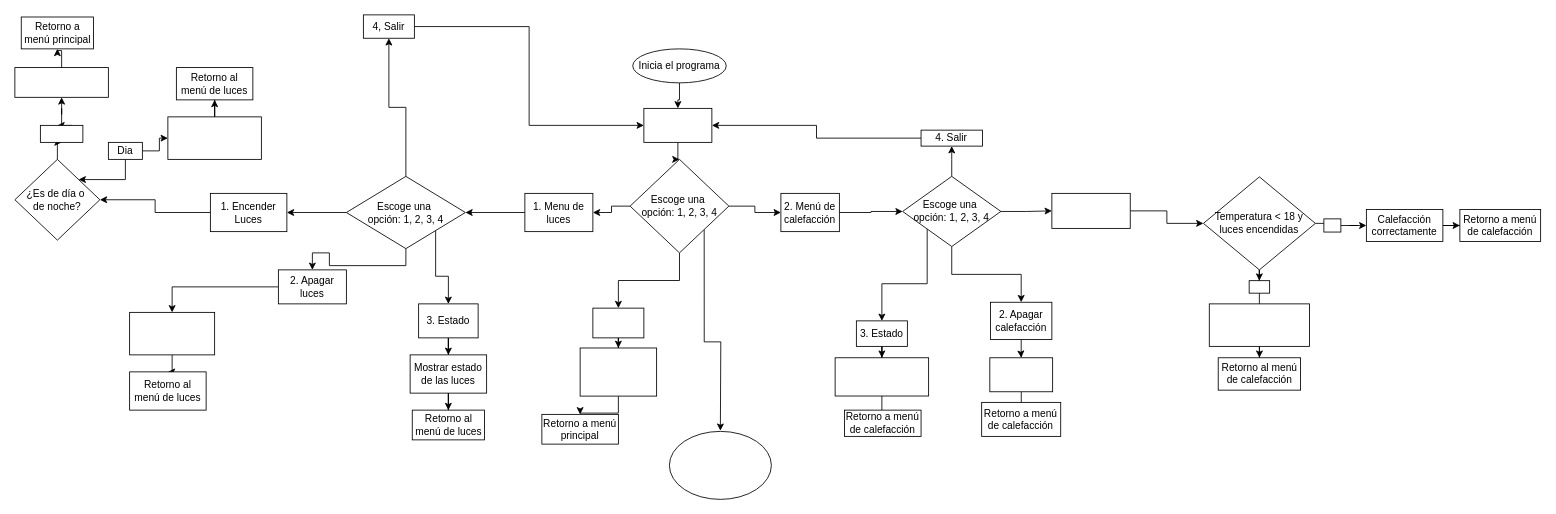
This 1556x514 diagram has some shape labels left out. Each missing label, with the centre of its shape:
1. Encender calefacción: (x=1090, y=210)
3. Estado general: (x=618, y=322)
Calefacción apagada: (x=1021, y=374)
Condiciones no cumplidas = calefacción apagada: (x=1259, y=324)
Debe de ser de noche para poder encender las luces: (x=214, y=137)
Fin del programa: (x=720, y=465)
Luces Apagadas correctamente: (x=172, y=333)
Luces encendidas correctamente: (x=61, y=82)
Menú principal: (x=677, y=125)
Mostrar estado actual de la calefacción: (x=881, y=376)
Mostrar estado general de los servicios: (x=618, y=371)
No: (x=1259, y=286)
Noche: (x=61, y=133)
Si: (x=1332, y=225)
